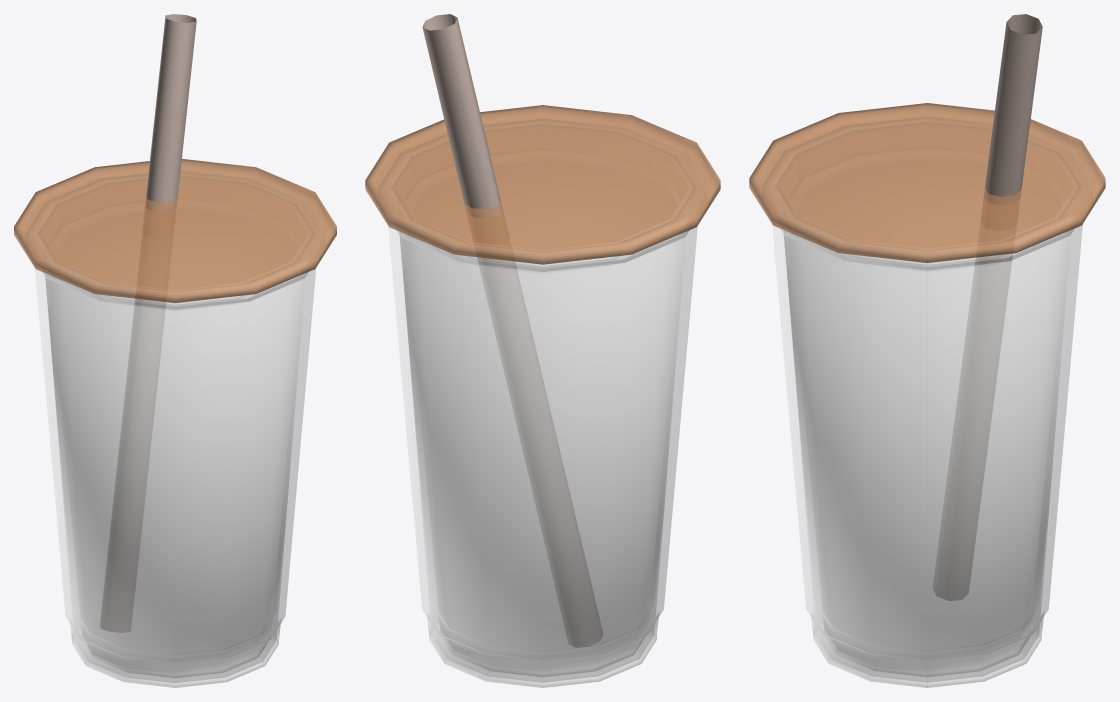
The model's file is plain _tea_NO_boba.glb.
3 renders of one model, left to right at view 1: azimuth 30°, elevation 25°; view 2: azimuth 150°, elevation 25°; view 3: azimuth 270°, elevation 25°, orthographic. The views are drawn at different scales.
Visible parts, largest first — view 1: Cup, drink, top, Cylinder; view 2: Cup, drink, top, Cylinder; view 3: Cup, drink, top, Cylinder.
Boxes of the visible parts, <box> form: Cup: <box>27,171,323,687</box>; drink: <box>45,276,305,677</box>; top: <box>14,159,336,303</box>; Cylinder: <box>100,14,196,632</box>; Cup: <box>378,119,707,687</box>; drink: <box>400,235,685,676</box>; top: <box>365,105,720,264</box>; Cylinder: <box>422,14,602,646</box>; Cup: <box>762,117,1092,687</box>; drink: <box>784,233,1070,676</box>; top: <box>749,103,1105,262</box>; Cylinder: <box>933,14,1042,600</box>.
Size of the model in its own units: 1.03 by 2.06 by 1.03.
